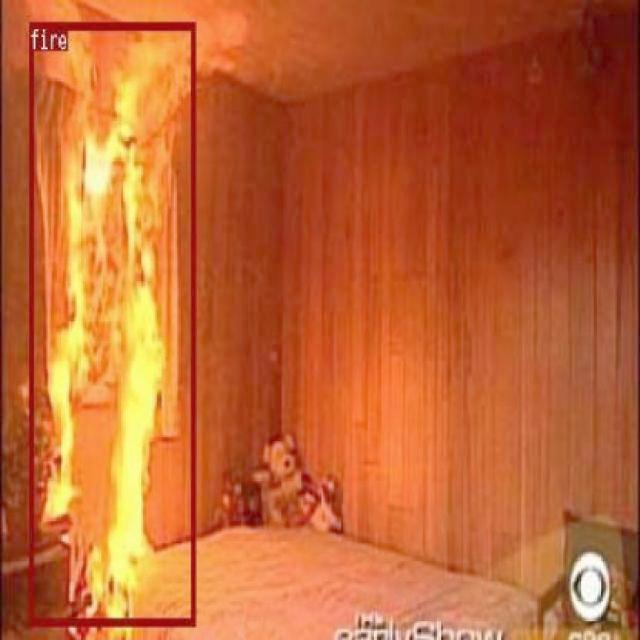fire: (28, 21, 196, 624)
